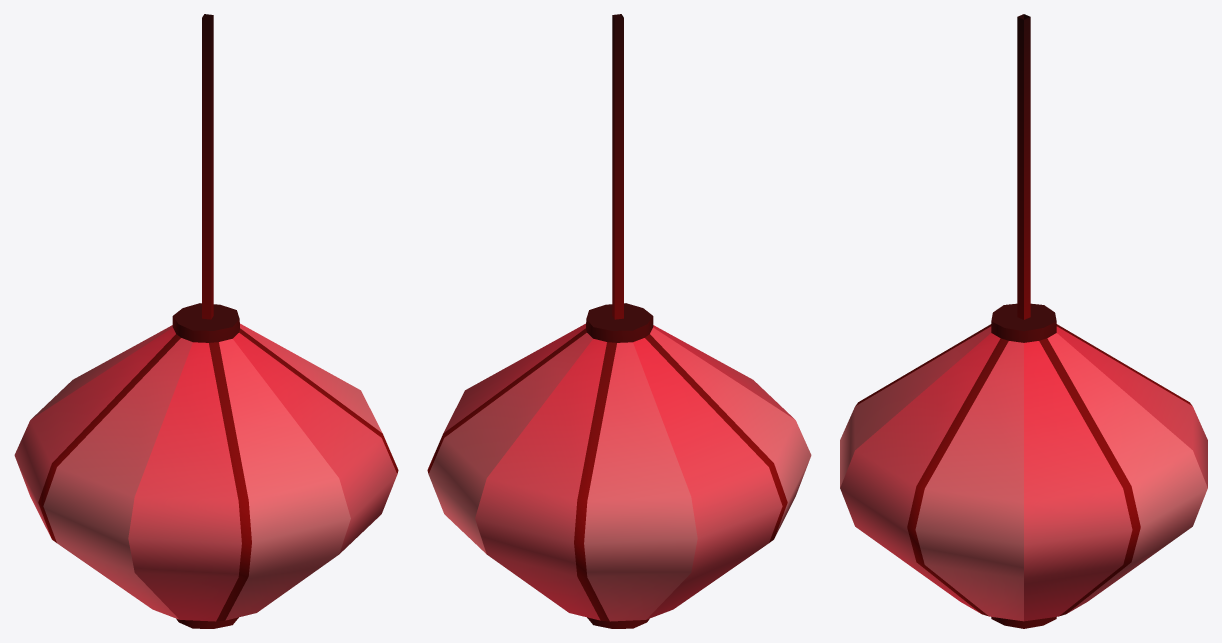
File: Lantern_D_01.FBX
The picture shows the model from 3 angles, left to right: view 1: azimuth 30°, elevation 25°; view 2: azimuth 150°, elevation 25°; view 3: azimuth 270°, elevation 25°; orthographic projection.
Parts seen in each view (by area): view 1: Lantern_D_01Light, Lantern_D_01; view 2: Lantern_D_01Light, Lantern_D_01; view 3: Lantern_D_01Light, Lantern_D_01.
Boxes of the visible parts, x1,y1,x2,y2 form: Lantern_D_01Light: (14,323,398,621); Lantern_D_01: (172,14,239,628); Lantern_D_01Light: (427,323,811,621); Lantern_D_01: (586,14,653,628); Lantern_D_01Light: (840,324,1207,621); Lantern_D_01: (991,14,1056,628).
Size of the model in its own units: 57.23 by 98.04 by 54.66.
1 material, 1 textured.
